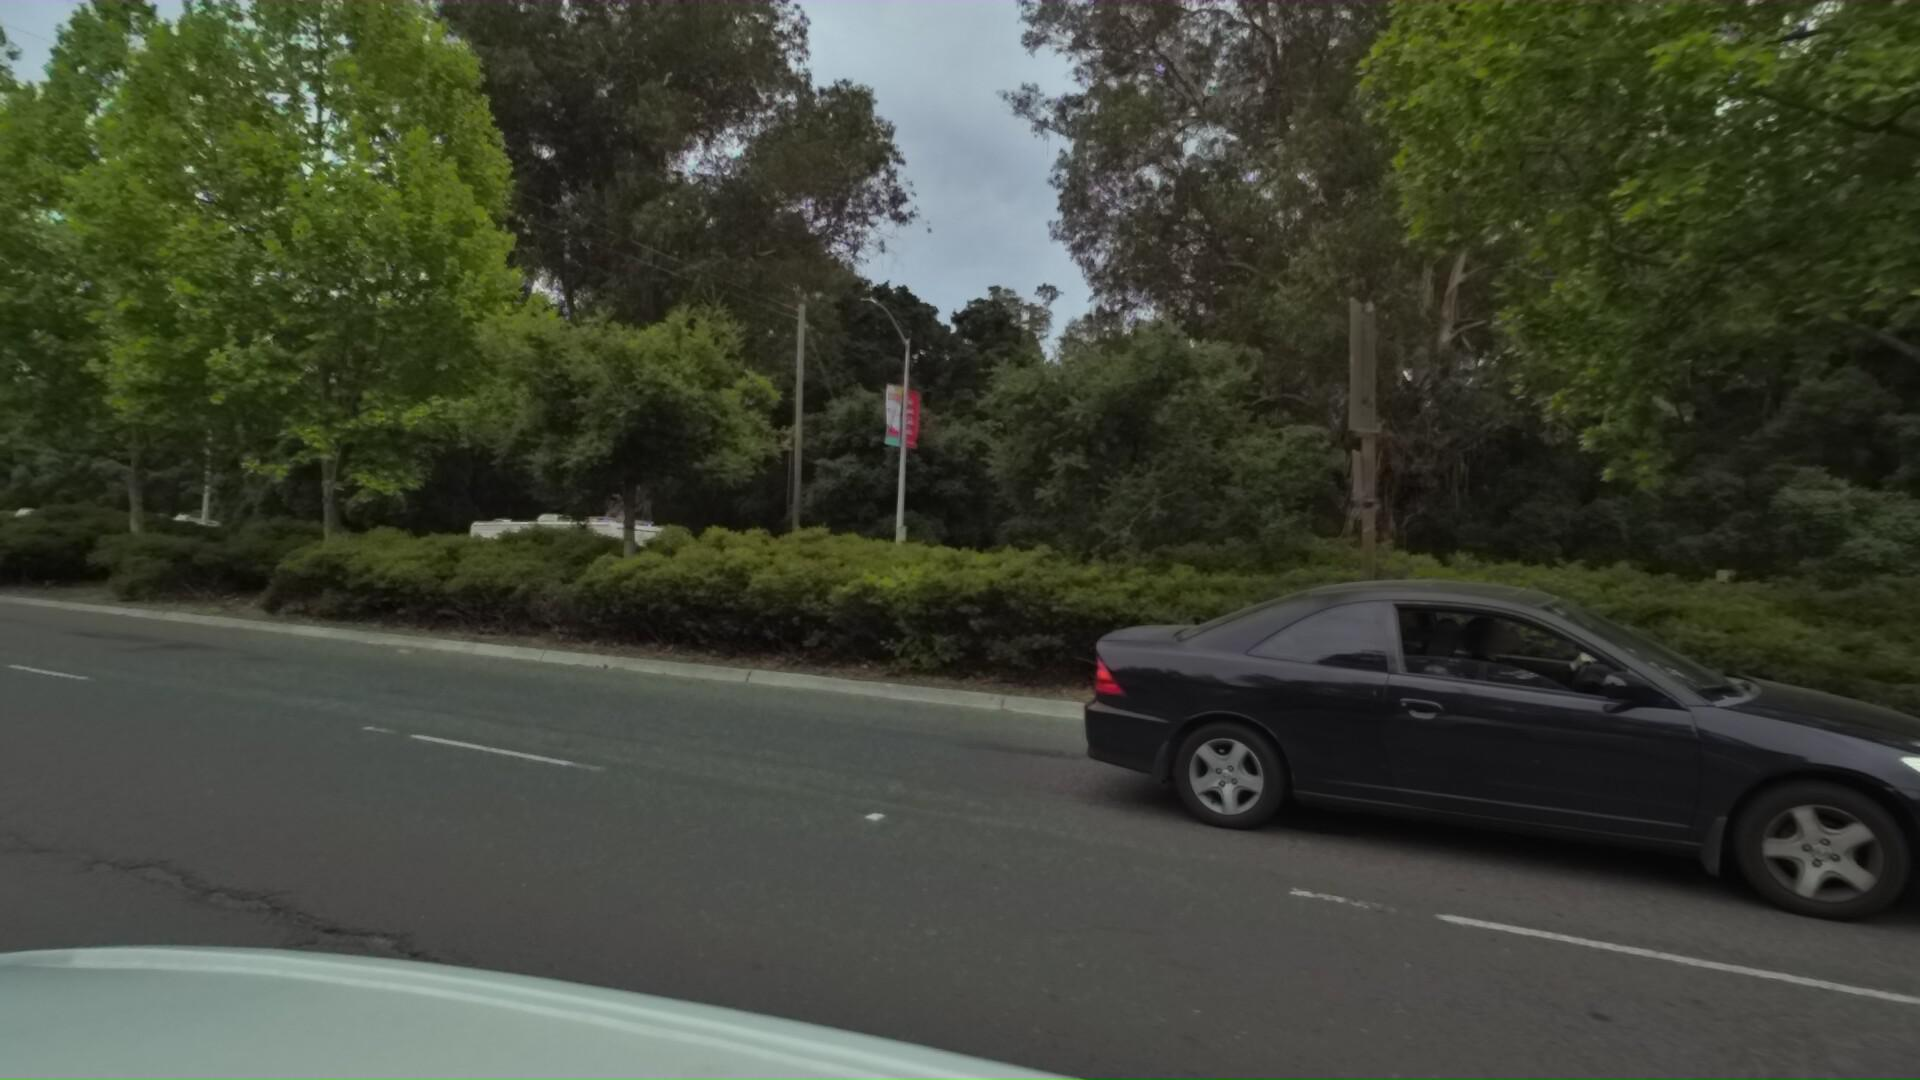car: (1071, 551, 1920, 1000)
other_vehicle: (446, 508, 673, 608), (88, 509, 229, 576), (0, 502, 88, 563)
